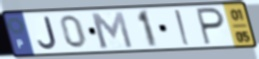0: (59, 14, 90, 51)
1: (137, 8, 162, 50)
I: (173, 8, 193, 47)
J: (36, 15, 59, 51)
M: (88, 10, 136, 50)
P: (194, 6, 226, 47)
